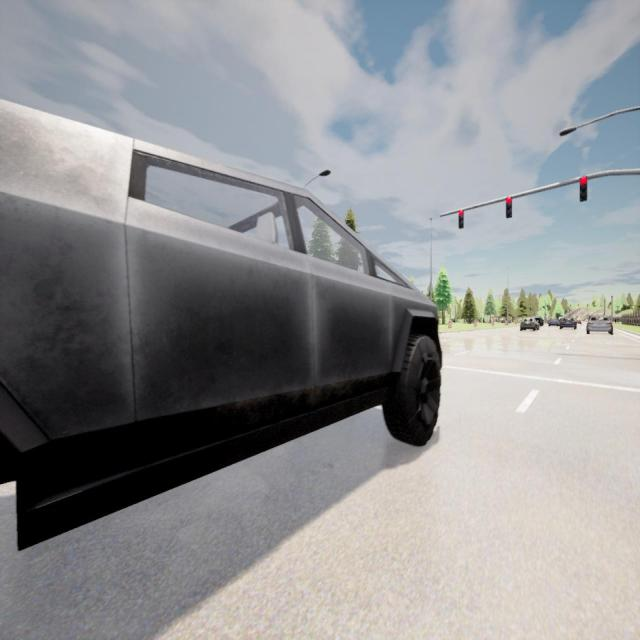Vehicle: (0, 100, 442, 548), (586, 314, 614, 334), (520, 317, 540, 330), (559, 316, 577, 329), (546, 317, 560, 327), (536, 316, 544, 328), (576, 318, 582, 326)
traffic_light: (580, 176, 587, 202), (506, 196, 512, 218), (458, 210, 464, 228)
